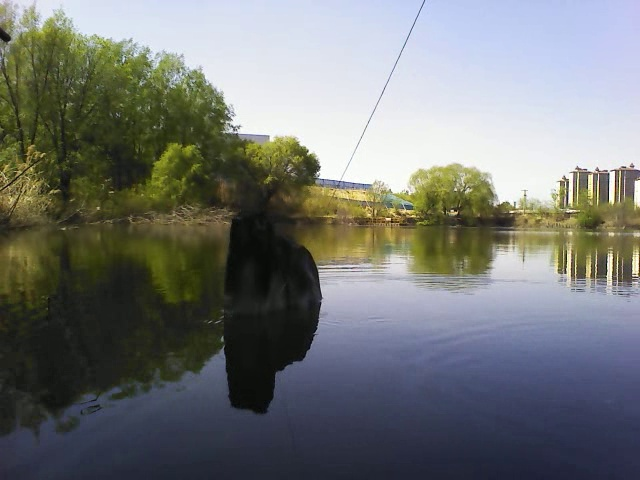rock: (216, 205, 328, 320)
